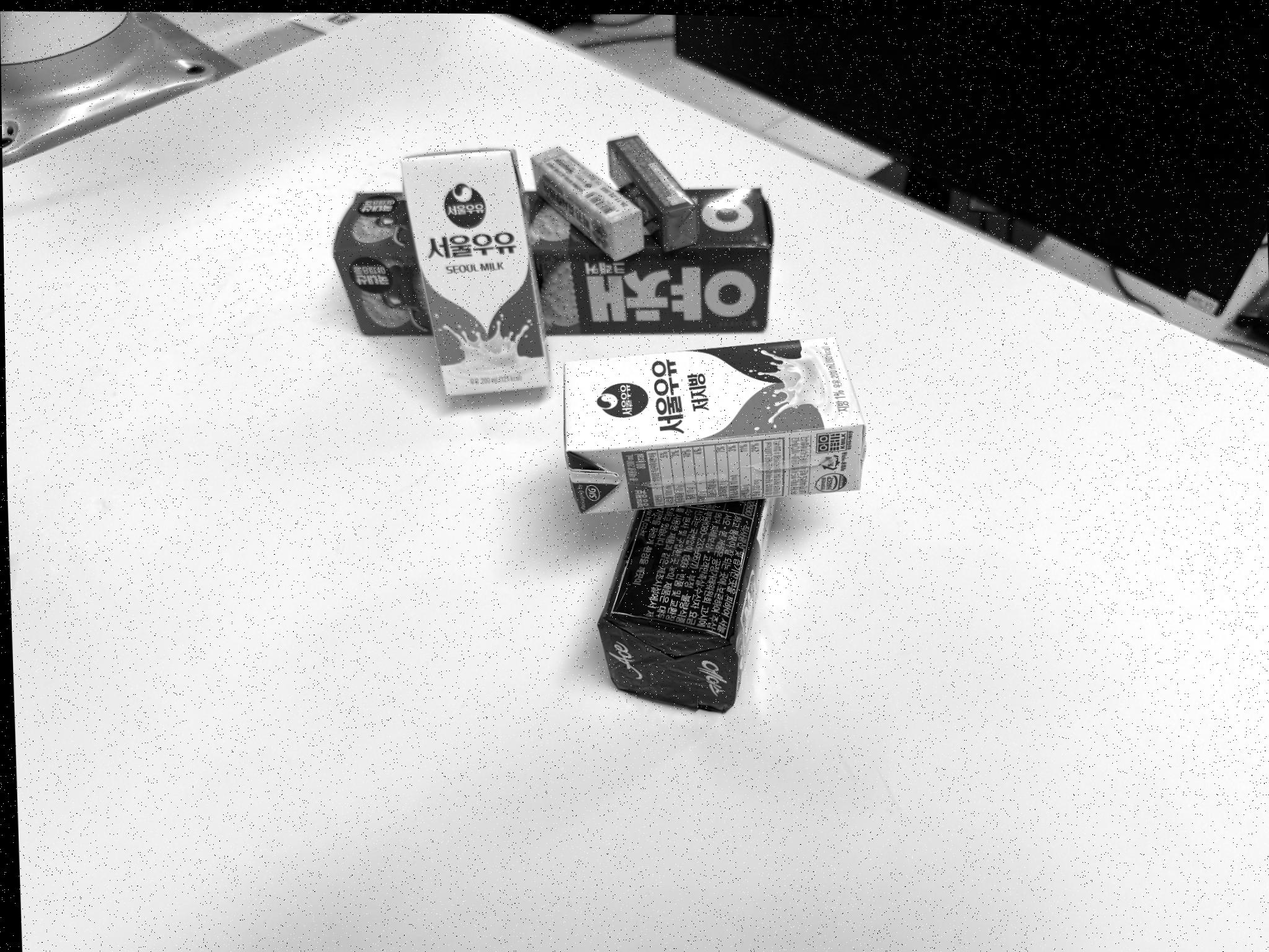cracker_ace: (599, 499, 773, 710)
cracker_vege: (527, 188, 773, 334), (333, 191, 432, 335)
gum_green: (608, 135, 698, 250)
gum_yellow: (532, 147, 644, 260)
milk_blue: (563, 337, 864, 513)
milk_green: (401, 149, 548, 395)
